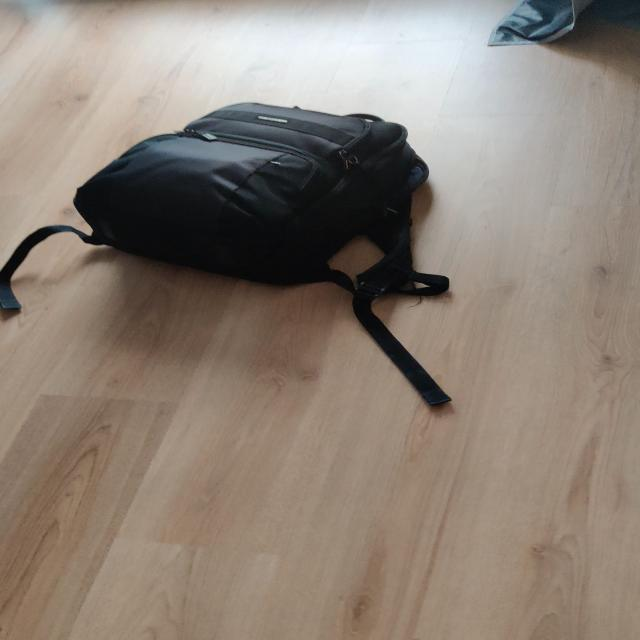backpack: (63, 95, 444, 291)
